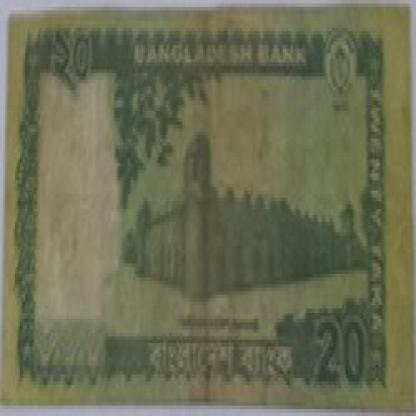Twenty: (47, 21, 103, 94), (320, 312, 366, 395)
